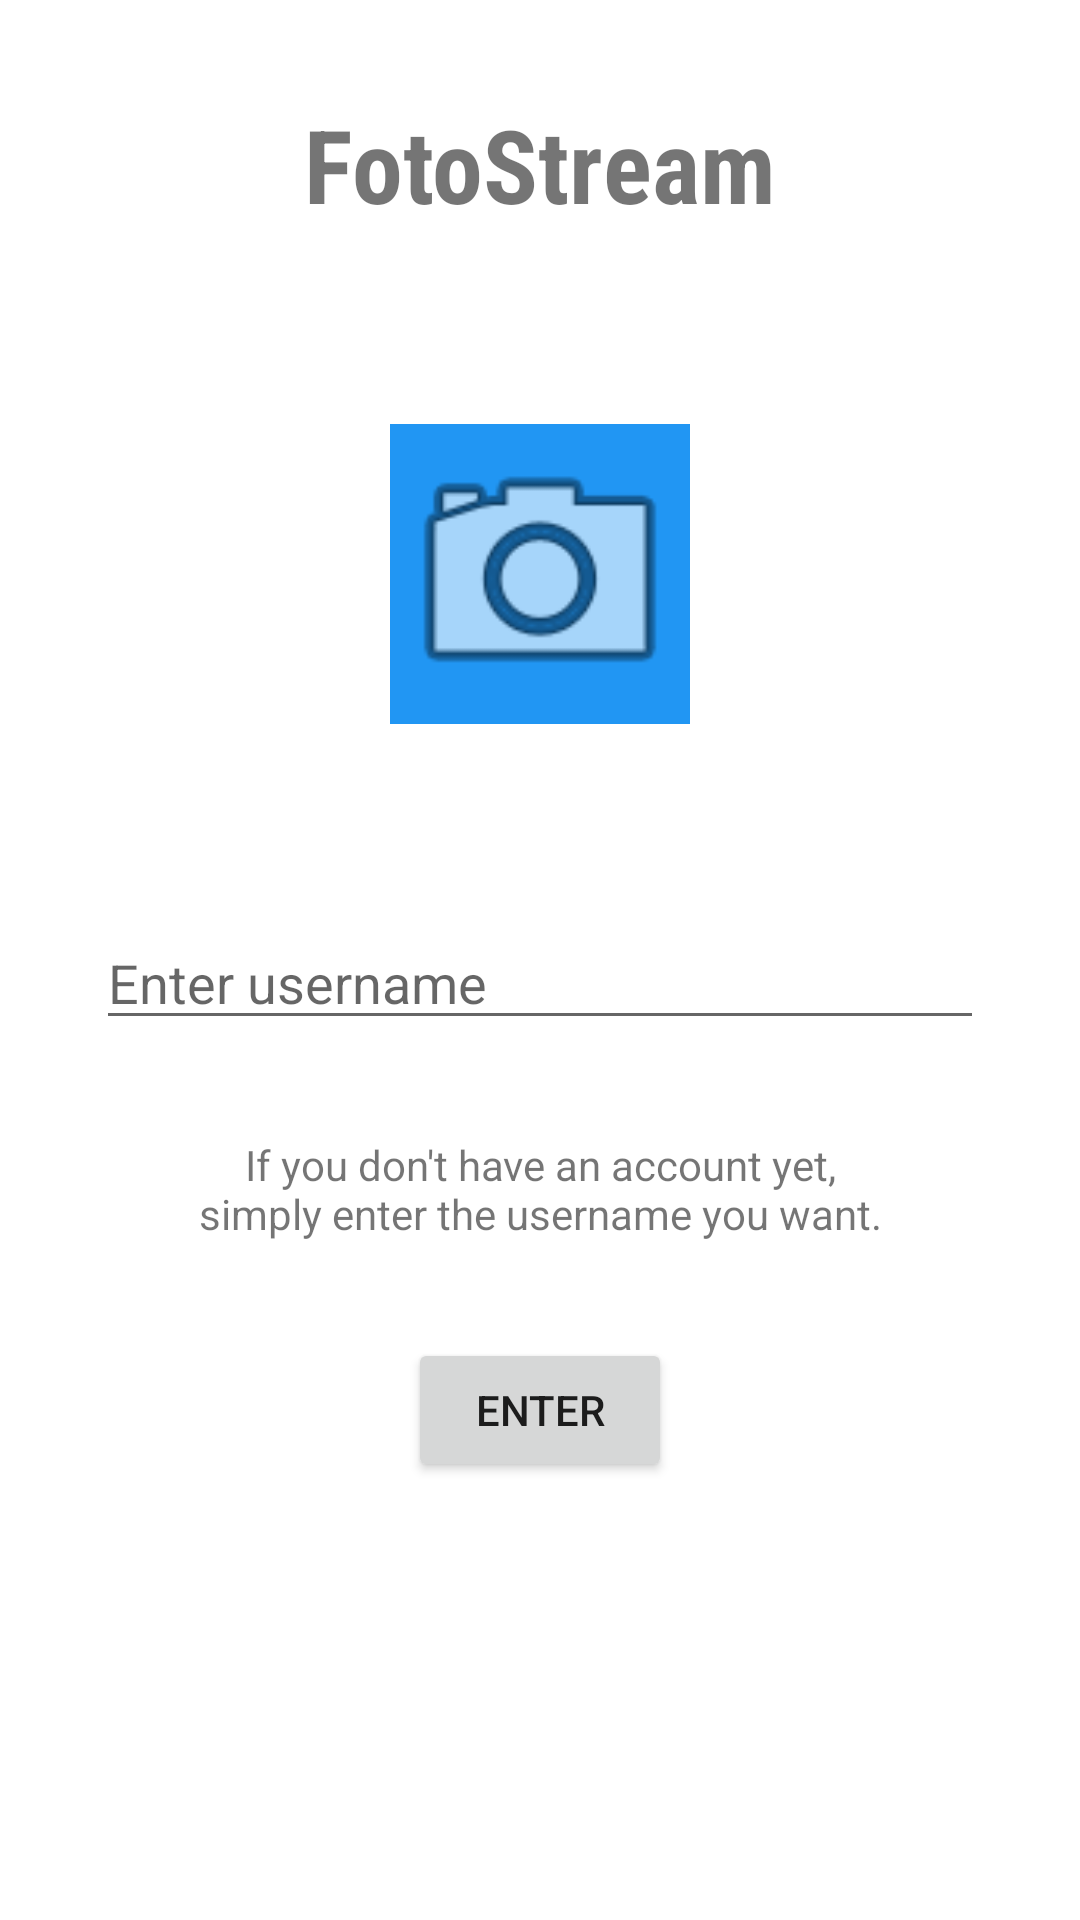

Named icons in this screenshot (1080px x 1920px) and their bounding boxes, (x1, y1, x2, y2):
camera: (390, 424, 690, 724)
